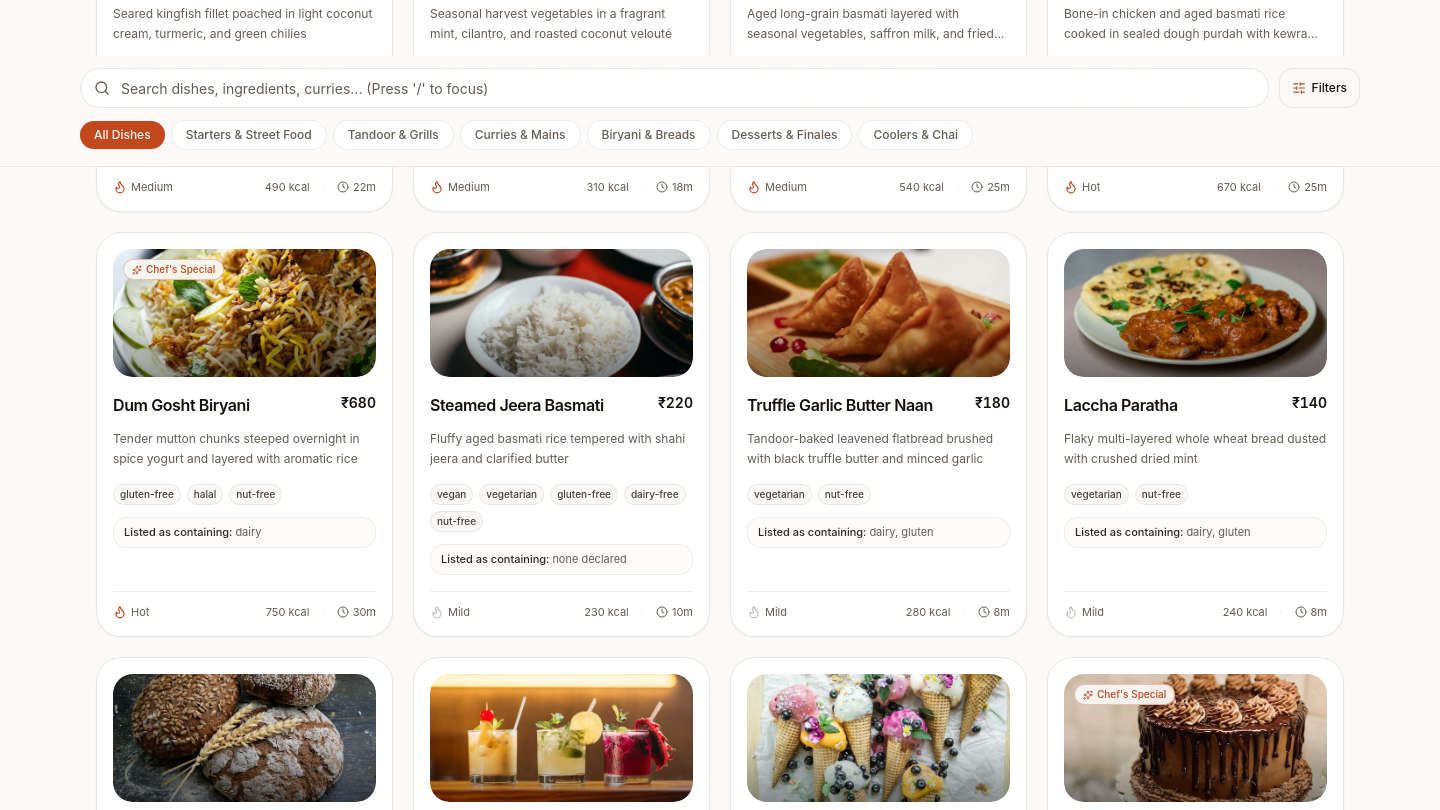
Menu Page (/menu) › opens dish detail view with full description, calories, and verbatim allergen notice
(page scrolled)
Step 1. Click the heading "Dum Gosht Biryani" → (181, 405), box [113, 393, 250, 417]
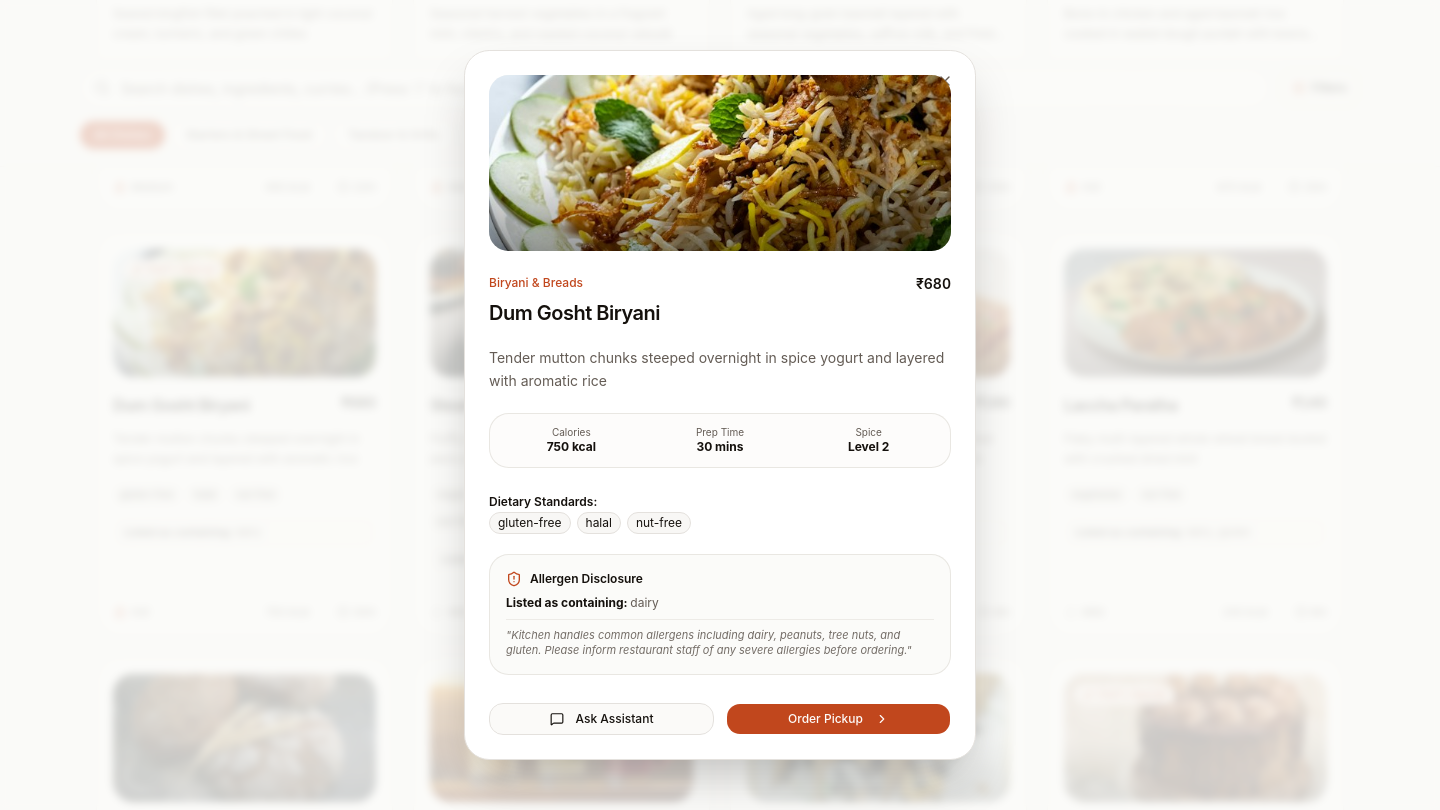
Check: the dialog is shown
Check: the text "Allergen Disclosure" is shown, box [530, 571, 643, 587]
Check: the text "Kitchen handles common allergens including dairy, peanuts, tree nuts, and gluten. Please inform restaurant staff of any " is shown, box [506, 628, 906, 657]
